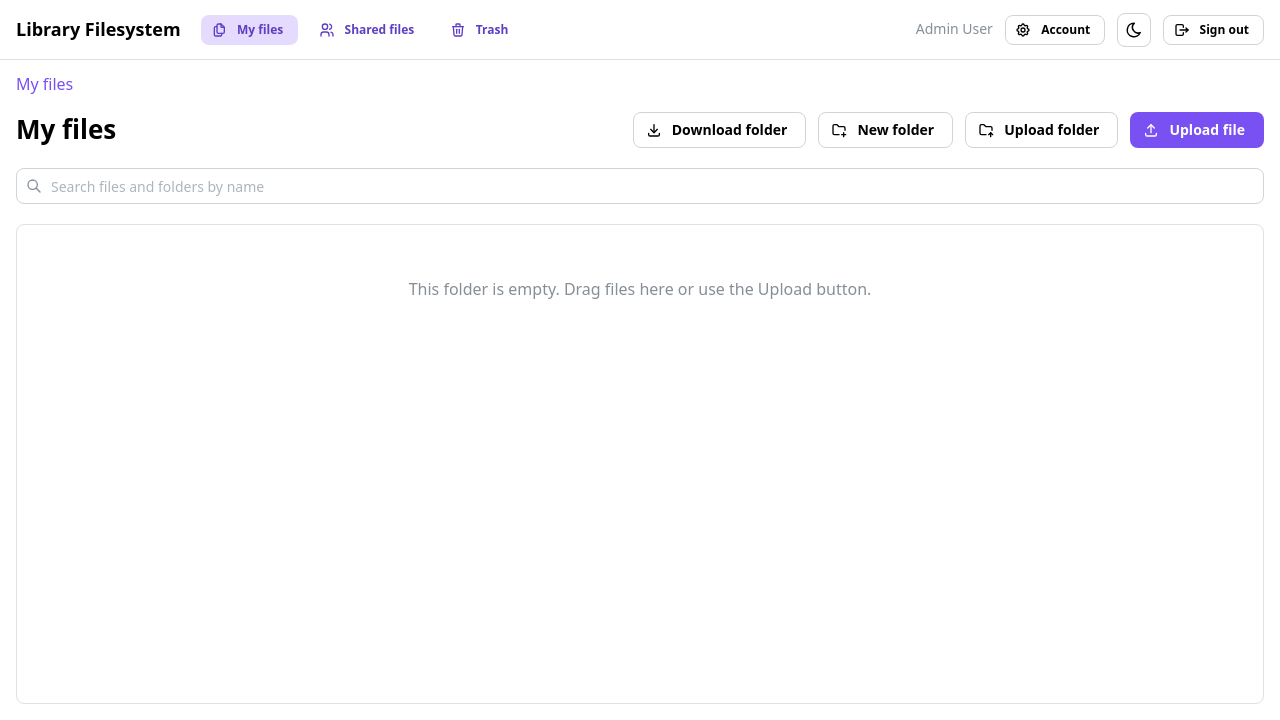
Test case: App › signs the user out
Step 1. Click the button "Sign out" → (1214, 30), box 1163,14 -> 1264,44
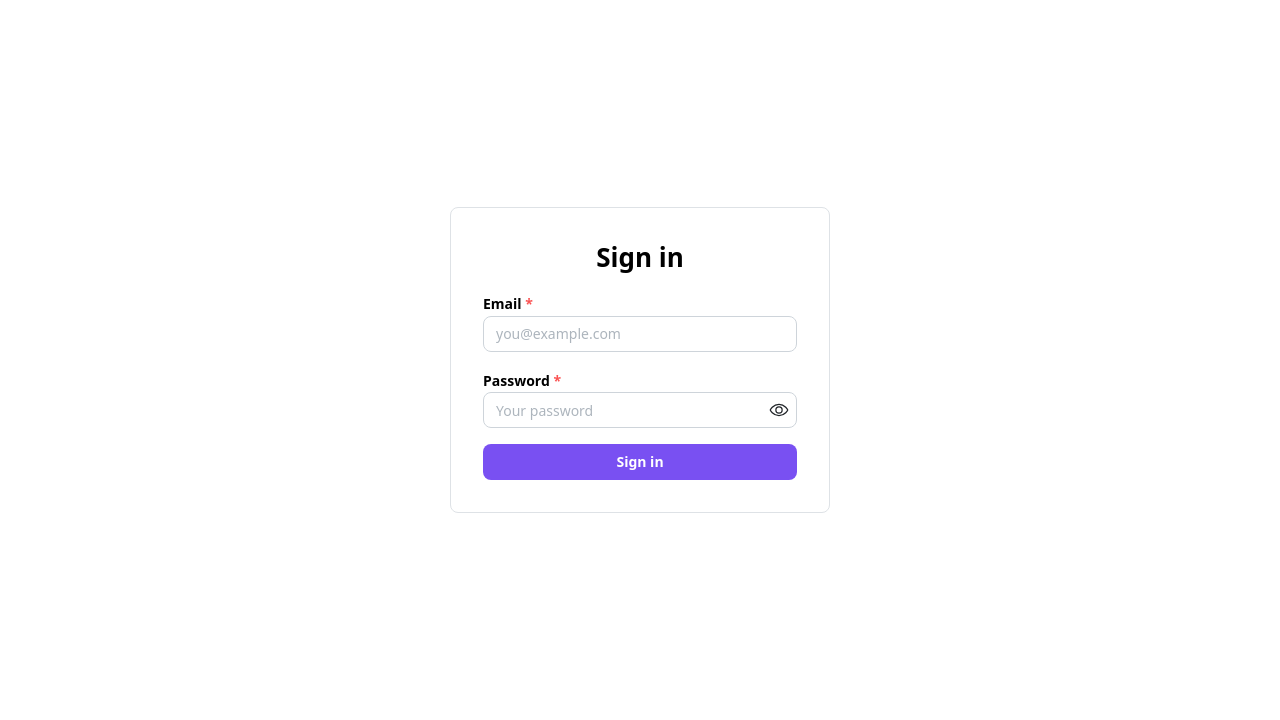
expect the heading "Sign in" is shown: met, box 596,239 -> 684,275
